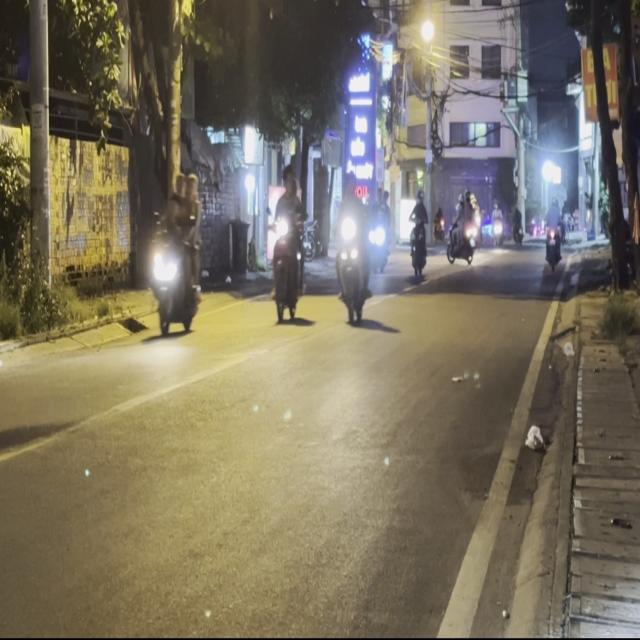licenseplate: (146, 168, 204, 337)
